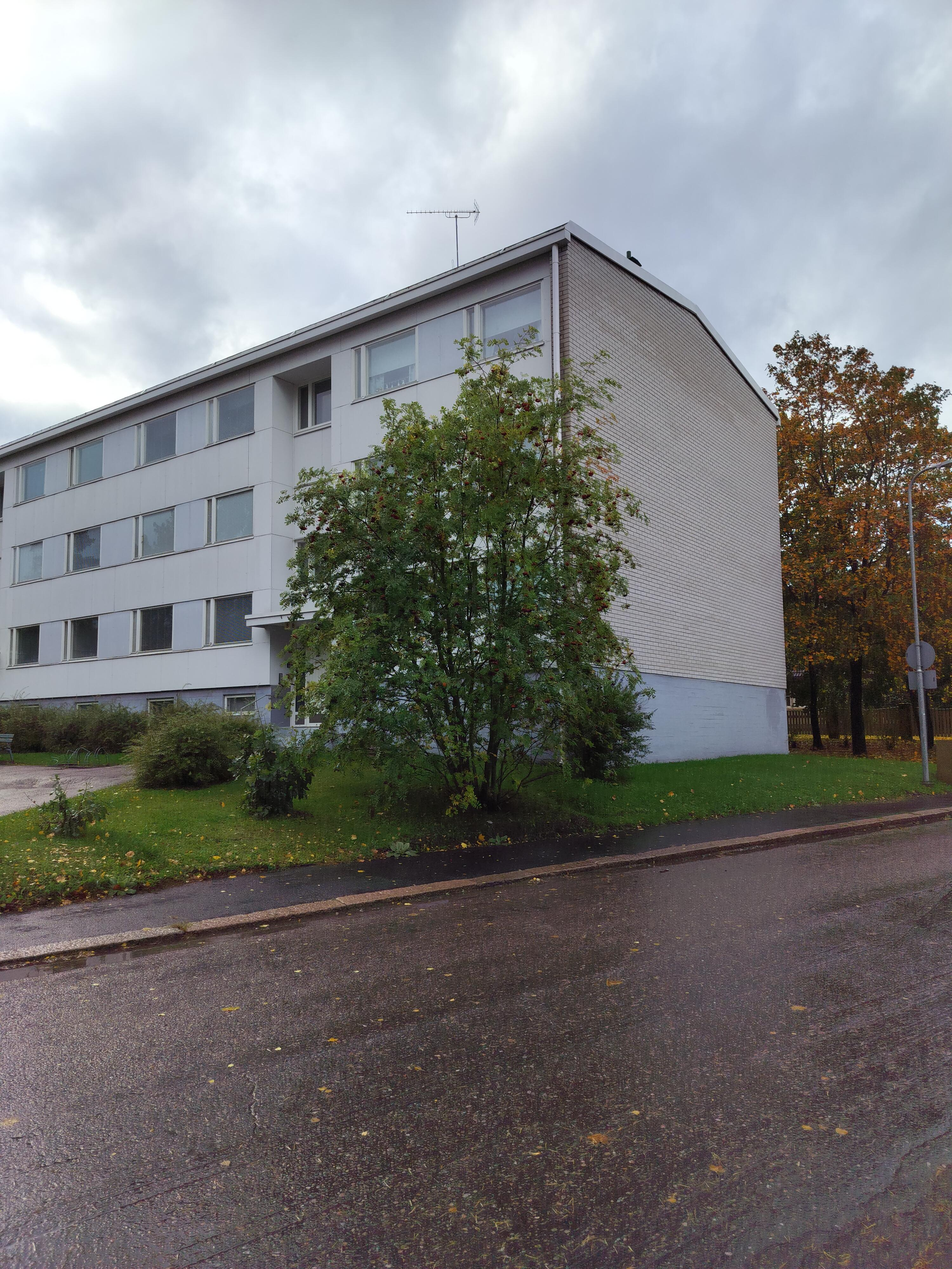Rowan: (265, 323, 658, 817)
